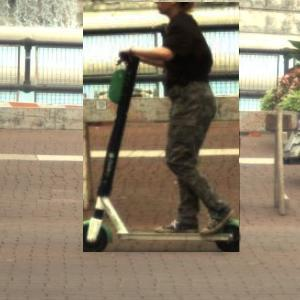with scooter: (84, 2, 241, 252)
